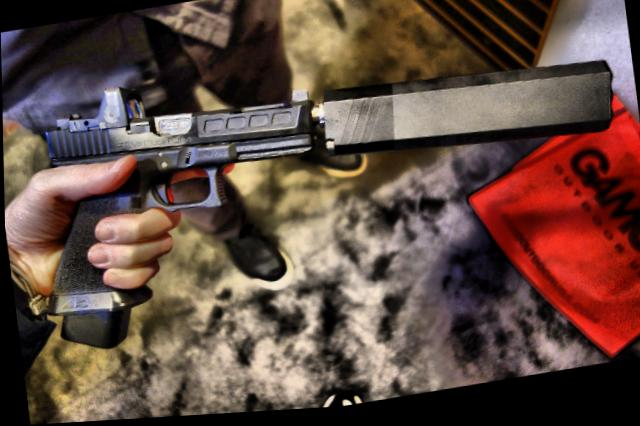pistol: (19, 56, 342, 348)
